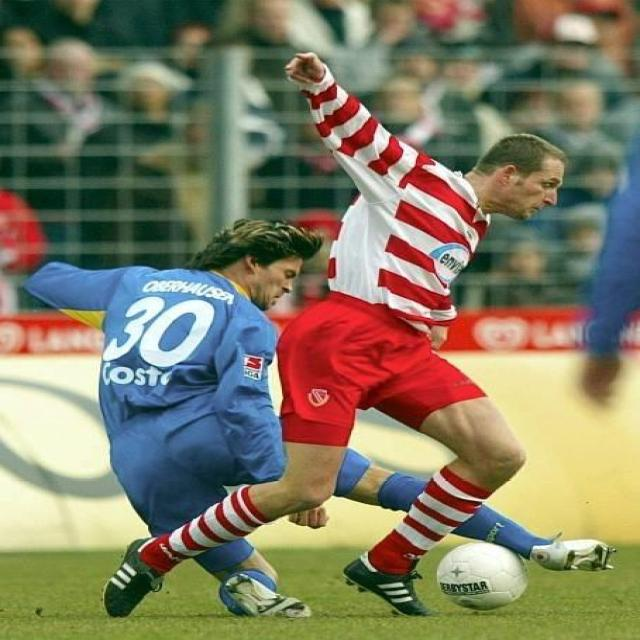ball: (433, 531, 533, 617)
player: (76, 45, 578, 622), (23, 232, 465, 619)
